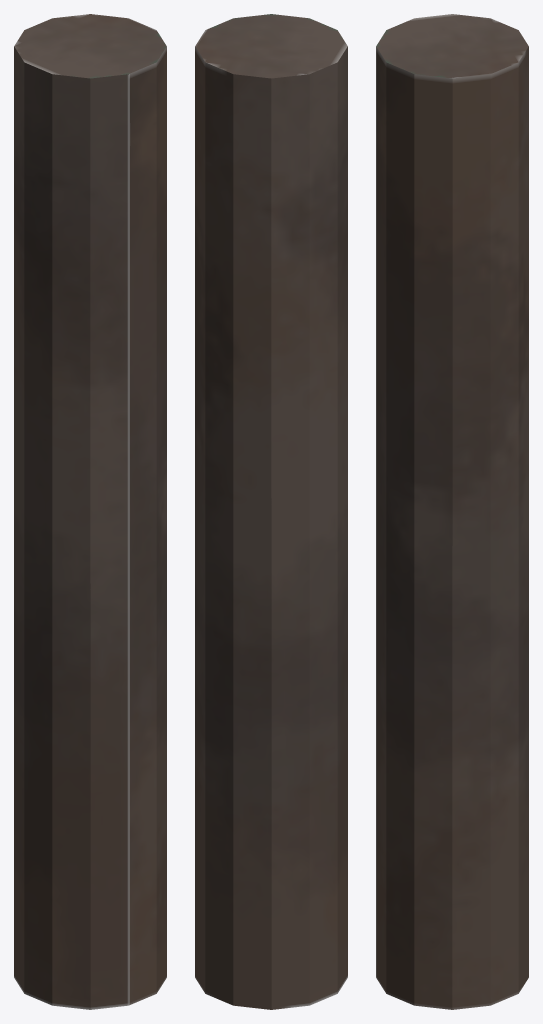
Rendered from TuberiaLarga.fbx.
The picture shows the model from 3 angles, left to right: view 1: azimuth 30°, elevation 25°; view 2: azimuth 150°, elevation 25°; view 3: azimuth 270°, elevation 25°; orthographic projection.
Visible parts, largest first — view 1: TuberiaLarga; view 2: TuberiaLarga; view 3: TuberiaLarga.
Boxes of the visible parts, box(x1,y1,x2,y2) form: TuberiaLarga: box(14, 14, 166, 1009); TuberiaLarga: box(195, 14, 347, 1009); TuberiaLarga: box(376, 14, 528, 1009).
Size of the model in its own units: 44.58 by 300 by 44.58.
